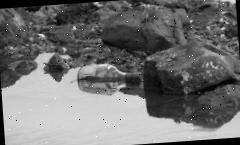glass: (76, 60, 144, 84)
